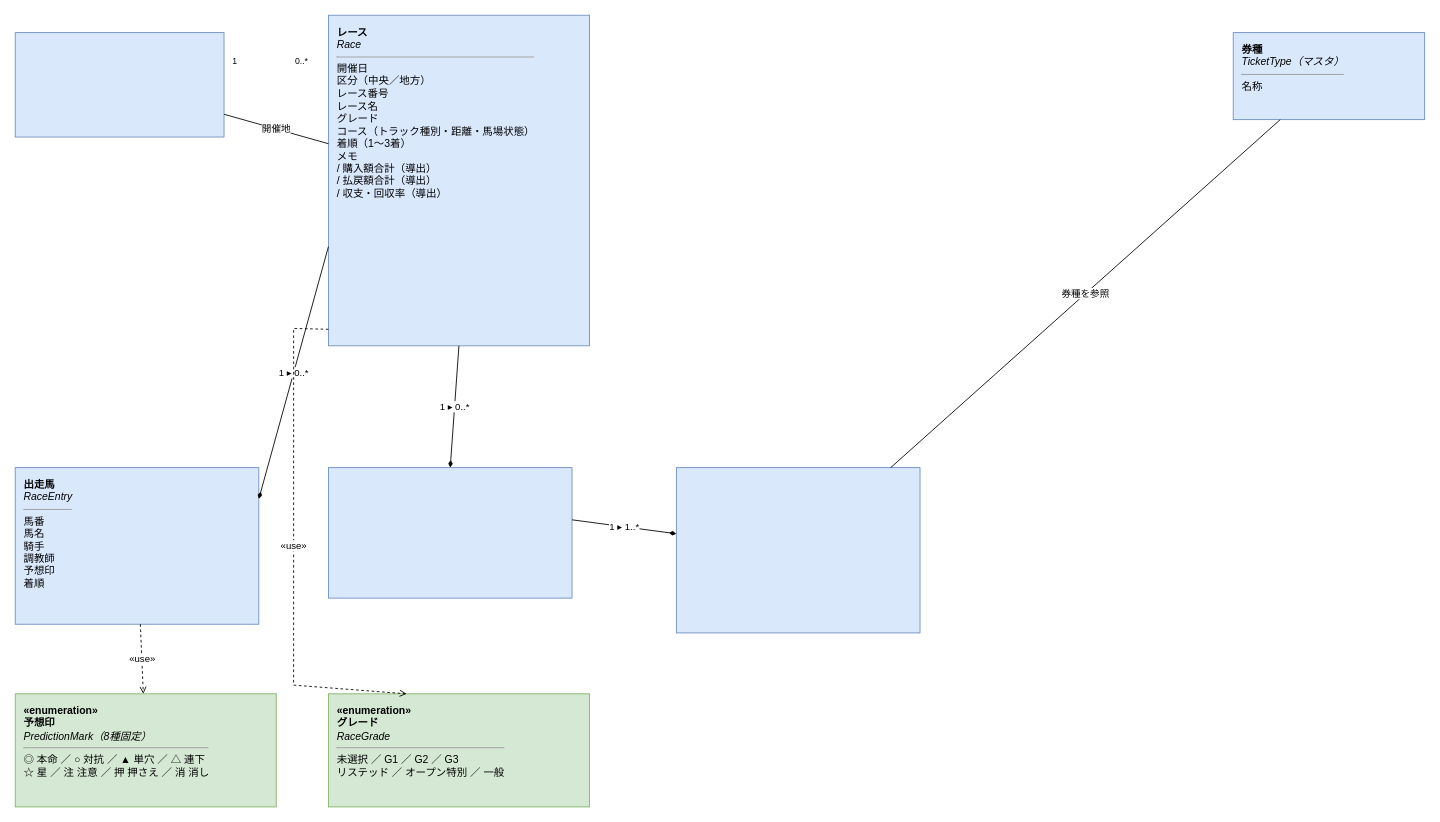
This 1440x822 diagram has some shape labels left out. Each missing label, with the centre of its shape:
"競馬場 Venue（マスタ） 名称" goes at point (119, 84).
"買い目 BetSelection 券種 買い方（通常／BOX／フォーメーション） 選択馬番 単価 / 組合せ点数（導出） / 購入額（導出）" goes at point (798, 550).
"馬券 Bet 払戻額 / 購入額（導出） / 収支（導出）" goes at point (450, 532).
